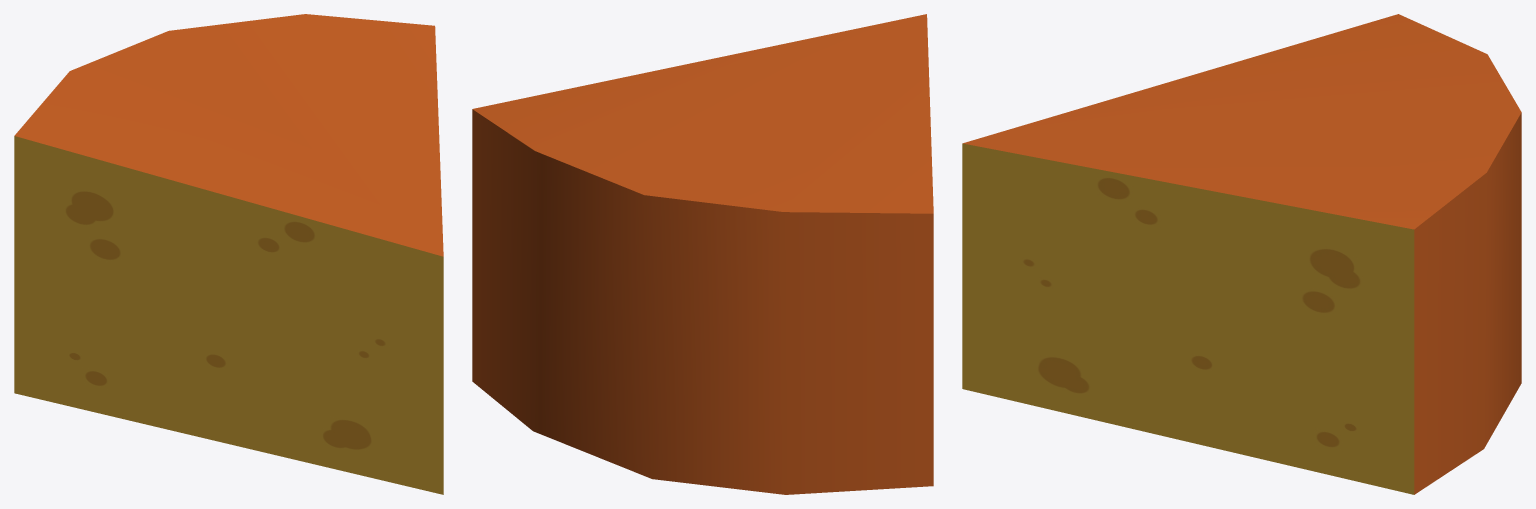
The model's file is kaese.fbx.
3 views of the same model, side by side, from view 1: azimuth 30°, elevation 25°; view 2: azimuth 150°, elevation 25°; view 3: azimuth 270°, elevation 25° (orthographic). The views are drawn at different scales.
Parts seen in each view (by area): view 1: kaese; view 2: kaese; view 3: kaese.
Boxes of the visible parts, x1,y1,x2,y2 form: kaese: (14,14,443,494); kaese: (472,14,933,494); kaese: (962,14,1521,494).
Size of the model in its own units: 175 by 104 by 191.
Materials: 2 (1 with a texture image).
